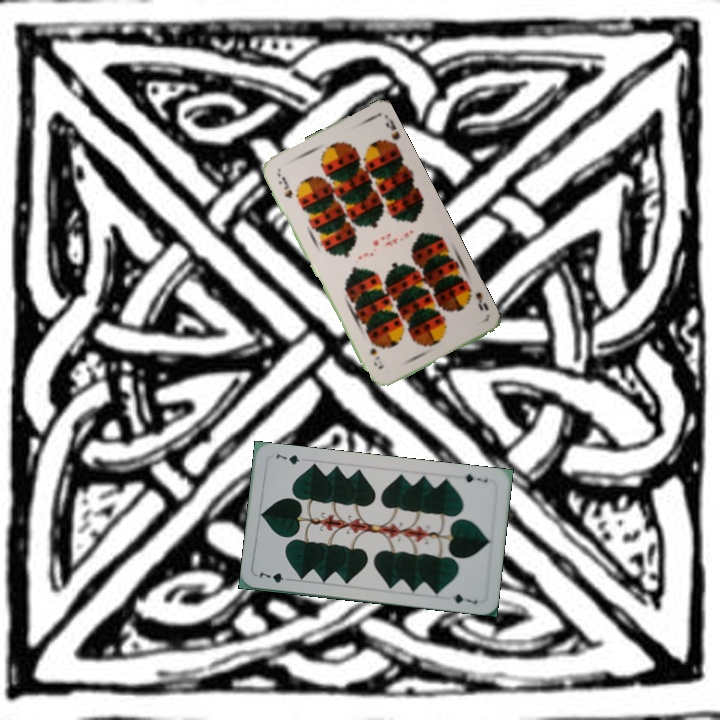G7: (255, 568, 295, 585), (460, 470, 490, 485)
S9: (462, 282, 491, 313), (273, 169, 295, 201)
